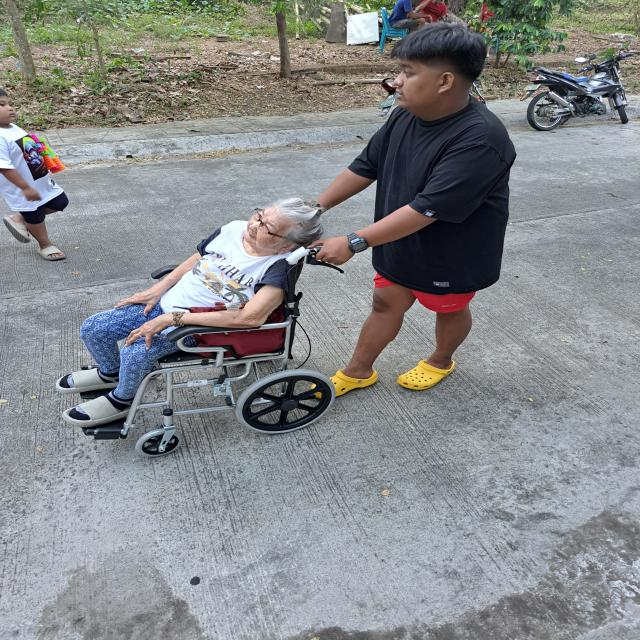wheelchairs: (69, 232, 347, 465)
